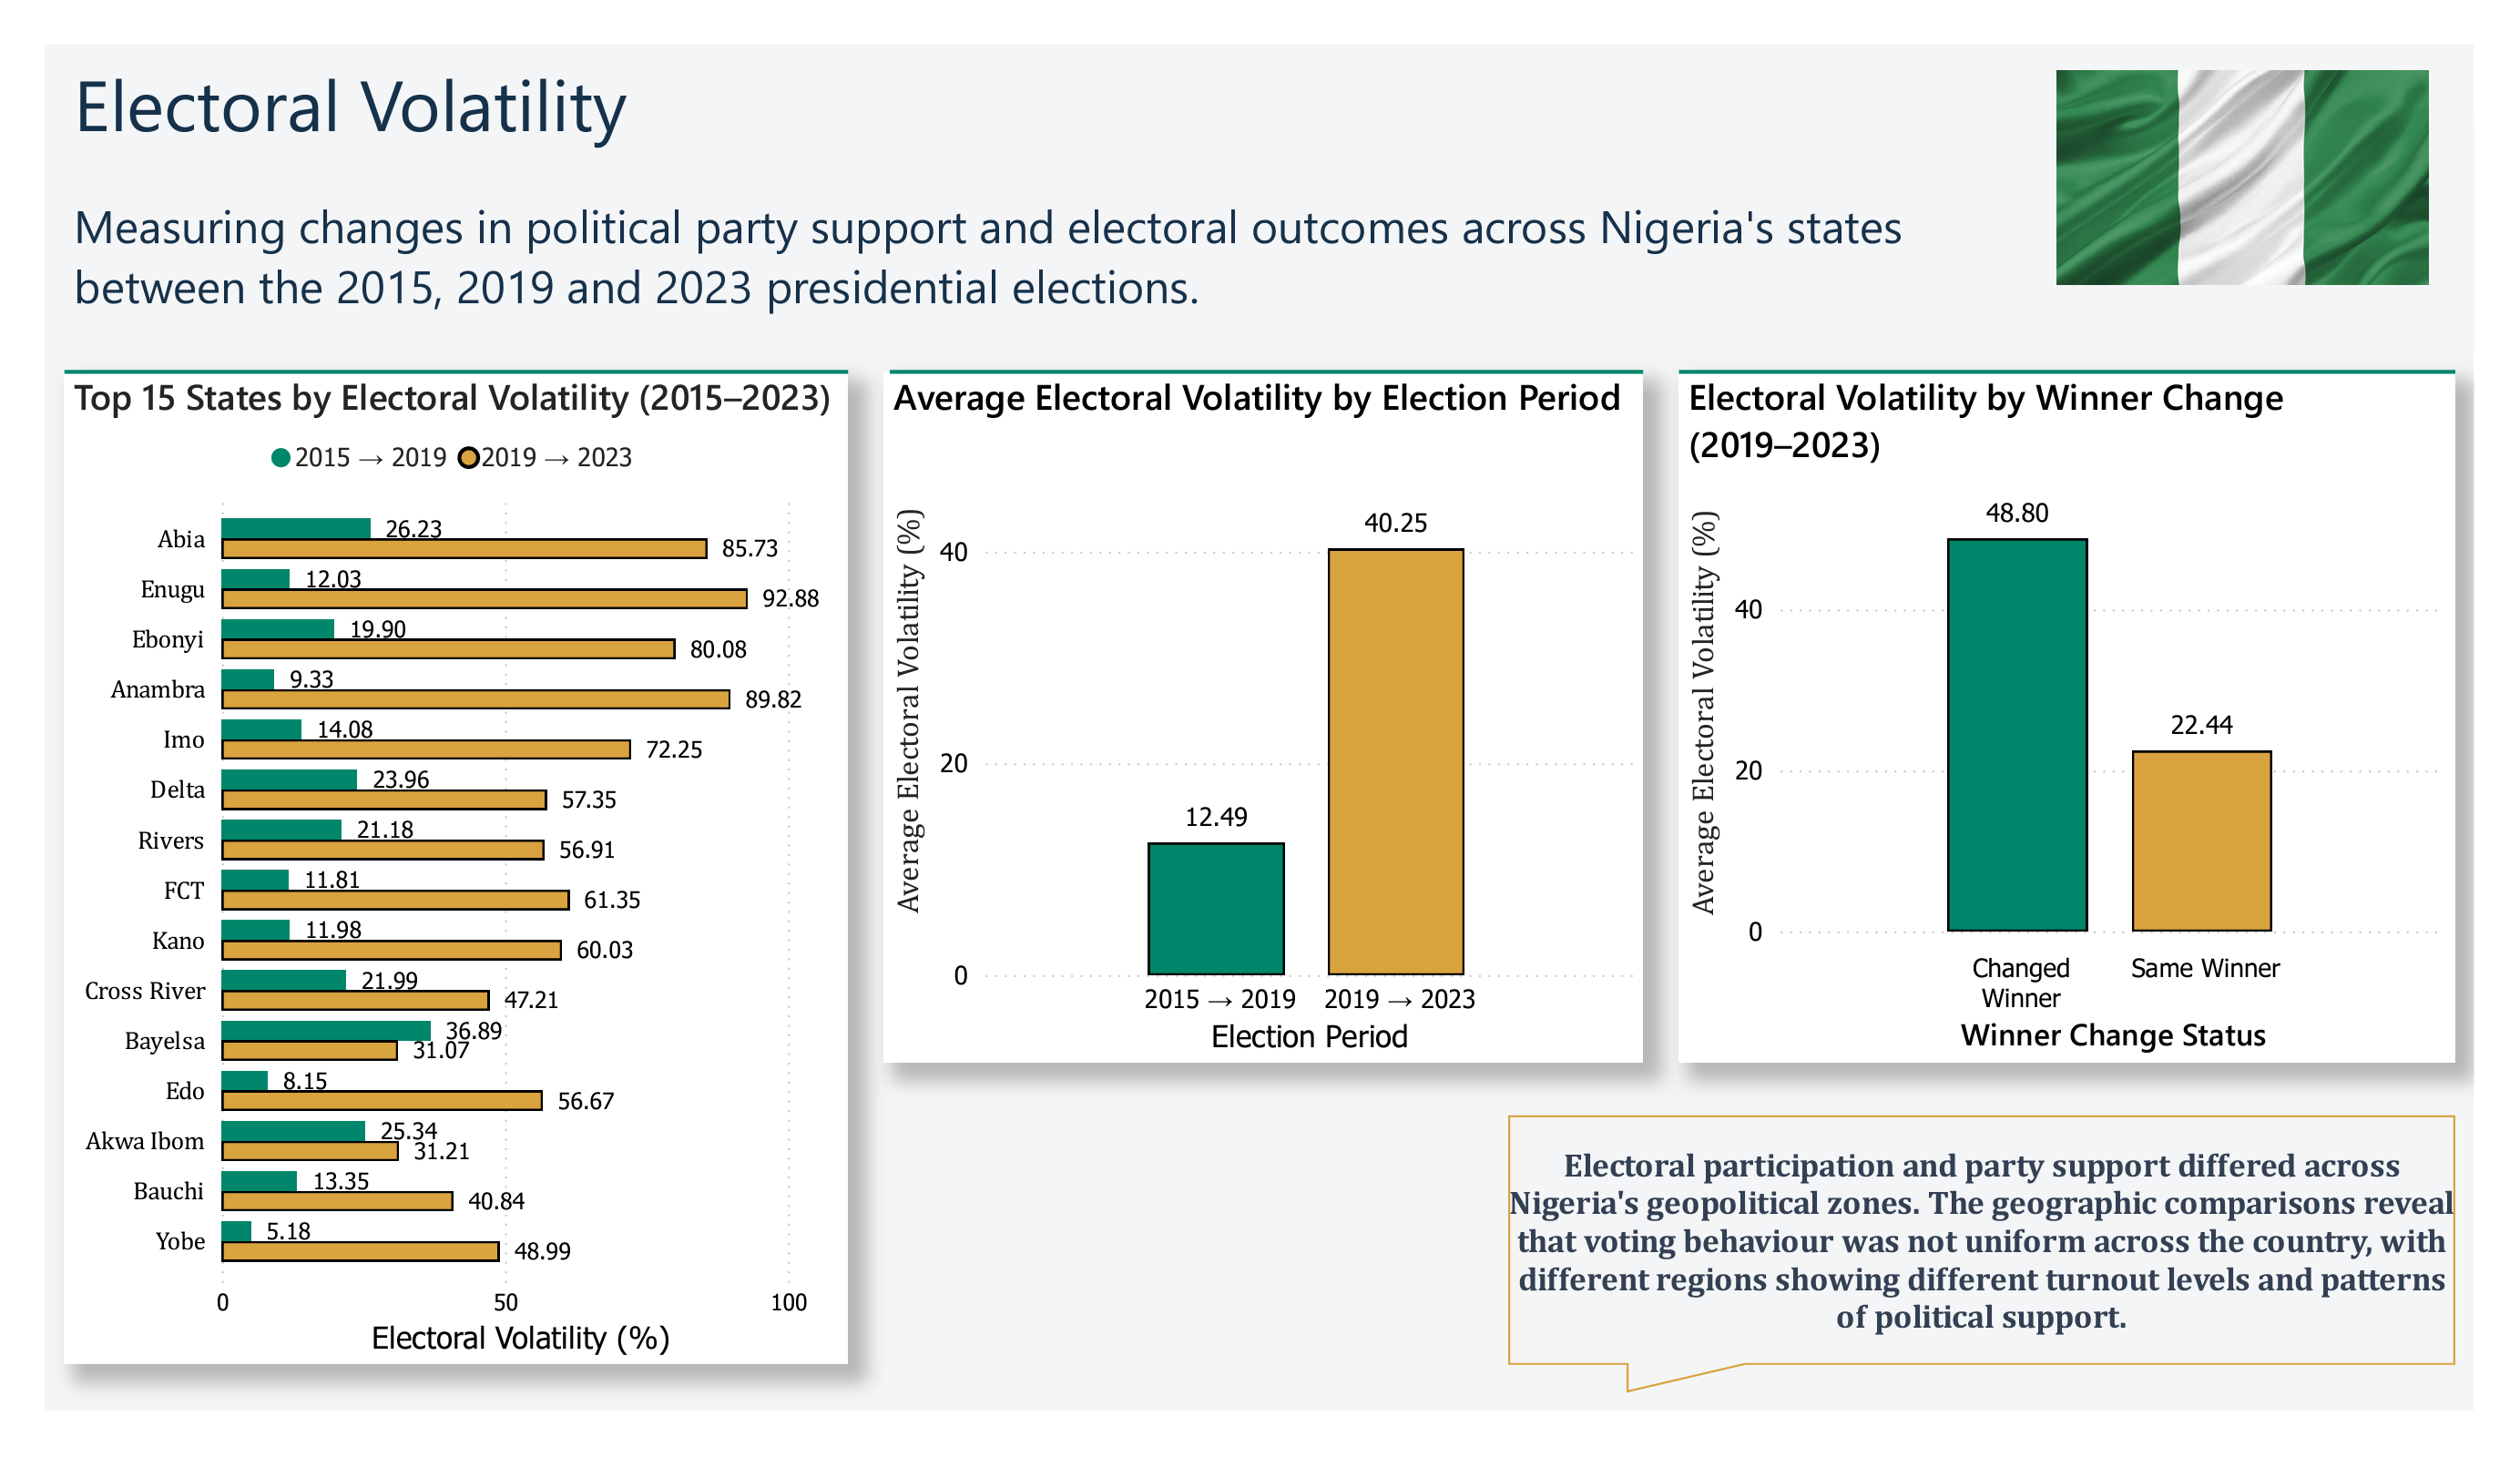

The dashboard page shown, as its layout file describes it:
{"tool":"powerbi","page":{"name":"ELECTORAL VOLATILITY","canvas":[1280,720],"ordinal":4},"visuals":[{"type":"textbox","box":[10.3,0,329.1,60.2],"z":0},{"type":"image","box":[1046.2,13.2,223.3,113.1],"z":1000},{"type":"textbox","box":[10.3,73.5,1035.9,82.3],"z":2000},{"type":"clusteredBarChart","title":"Top 15 States by Electoral Volatility (2015–2023)","fields":{"Category":["fact_volatility.state"],"Series":["fact_volatility.election_transition"],"Y":["Avg(fact_volatility.electoral_volatility)"]},"box":[10.3,171.9,412.9,523.1],"z":3000},{"type":"shape","box":[10.3,155.8,412.9,32.3],"z":4000},{"type":"clusteredColumnChart","title":"Average Electoral Volatility by Election Period","fields":{"Category":["fact_volatility.election_transition"],"Y":["Avg(fact_volatility.electoral_volatility)"]},"box":[442.3,171.9,399.7,364.4],"z":5000},{"type":"shape","box":[445.2,155.8,396.7,32.3],"z":6000},{"type":"clusteredColumnChart","title":"Electoral Volatility by Winner Change (2019–2023)","fields":{"Category":["fact_volatility.Winner Change Status"],"Y":["Avg(fact_volatility.electoral_volatility)"]},"box":[861.1,171.9,408.5,364.4],"z":7000},{"type":"shape","box":[861.1,155.8,408.5,32.3],"z":8000},{"type":"shape","box":[771.4,564.2,498.1,145.5],"z":9000}]}

Visuals, with their boxes on the page's 1280x720 design canvas (x1, y1, x2, y2). These are canvas units, not pixel positions in the 2520x1457 screenshot, which may show the page scaled, cropped or inside an application window:
textbox: 10,0,339,60
image: 1046,13,1270,126
textbox: 10,74,1046,156
"Top 15 States by Electoral Volatility (2015–2023)" clusteredBarChart: 10,172,423,695
shape: 10,156,423,188
"Average Electoral Volatility by Election Period" clusteredColumnChart: 442,172,842,536
shape: 445,156,842,188
"Electoral Volatility by Winner Change (2019–2023)" clusteredColumnChart: 861,172,1270,536
shape: 861,156,1270,188
shape: 771,564,1270,710
